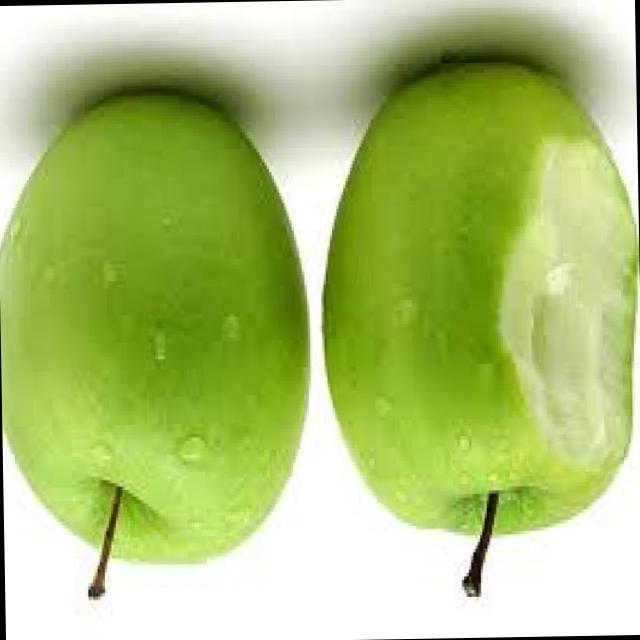Apple: (306, 49, 640, 616), (0, 58, 317, 618)
